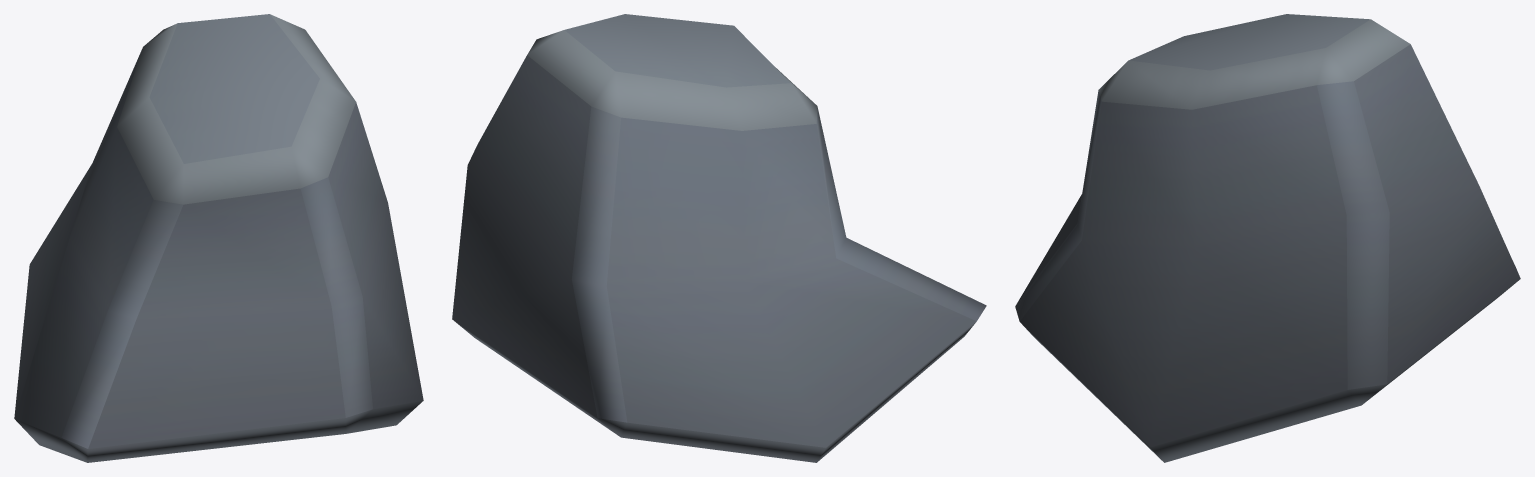
File: rock_08.fbx
3 renders of one model, left to right at view 1: azimuth 30°, elevation 25°; view 2: azimuth 150°, elevation 25°; view 3: azimuth 270°, elevation 25°, orthographic. The views are drawn at different scales.
Visible parts, largest first — view 1: rock_08; view 2: rock_08; view 3: rock_08.
Boxes of the visible parts, bbox=[...] form: rock_08: bbox=[14, 14, 423, 462]; rock_08: bbox=[452, 14, 986, 462]; rock_08: bbox=[1015, 14, 1520, 462].
Size of the model in its own units: 87.31 by 77.66 by 91.49.
